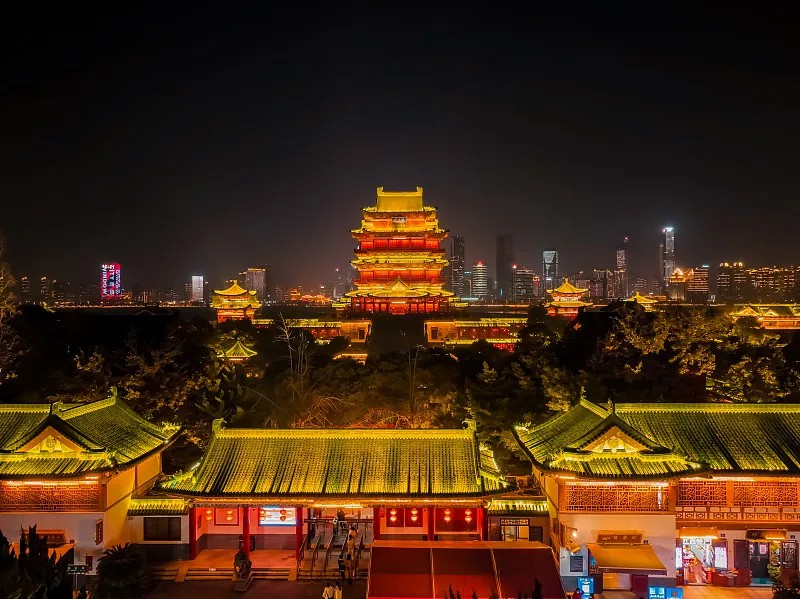Teng: (331, 181, 468, 312)
